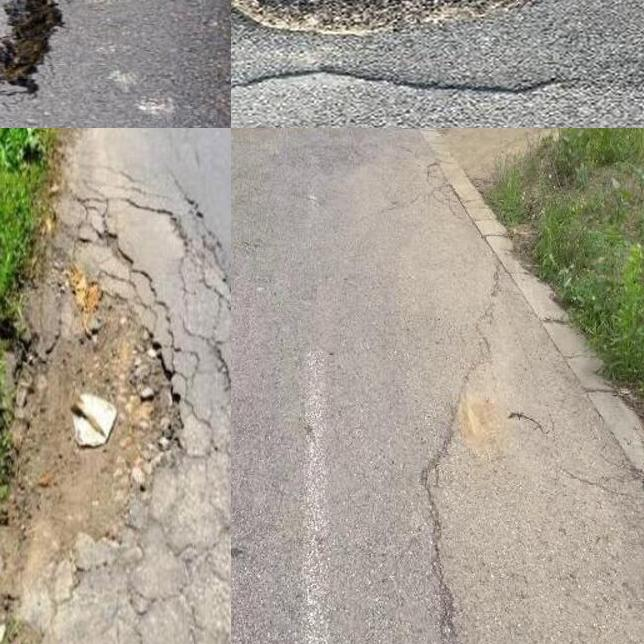Lubang: (231, 0, 539, 34)
Memanjang: (403, 266, 518, 644)
Pinggir: (0, 149, 231, 644), (0, 0, 231, 128)
